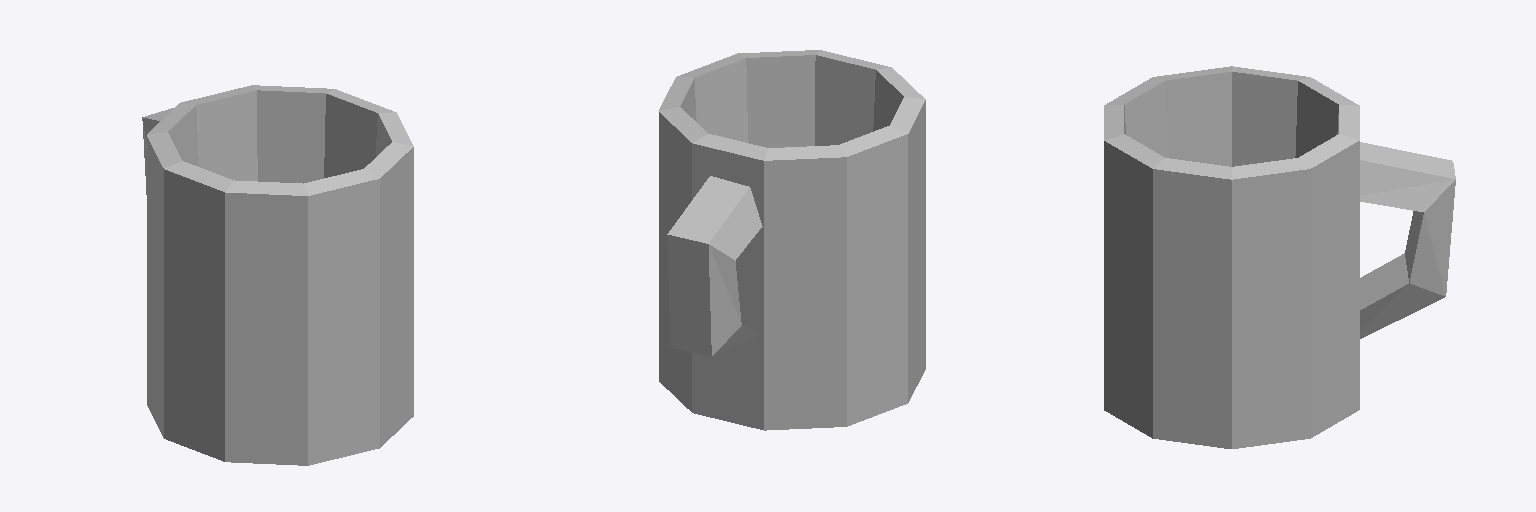
Rendered from coffeeCup_mesh 1.obj.
The picture shows the model from 3 angles: view 1: azimuth 30°, elevation 25°; view 2: azimuth 150°, elevation 25°; view 3: azimuth 270°, elevation 25°; orthographic projection.
Parts seen in each view (by area): view 1: coffeeCup_mesh; view 2: coffeeCup_mesh; view 3: coffeeCup_mesh.
Boxes of the visible parts, x1,y1,x2,y2 form: coffeeCup_mesh: [142, 85, 413, 465]; coffeeCup_mesh: [659, 50, 925, 430]; coffeeCup_mesh: [1104, 66, 1455, 448].
Size of the model in its own units: 0.1125 by 0.1264 by 0.1474.